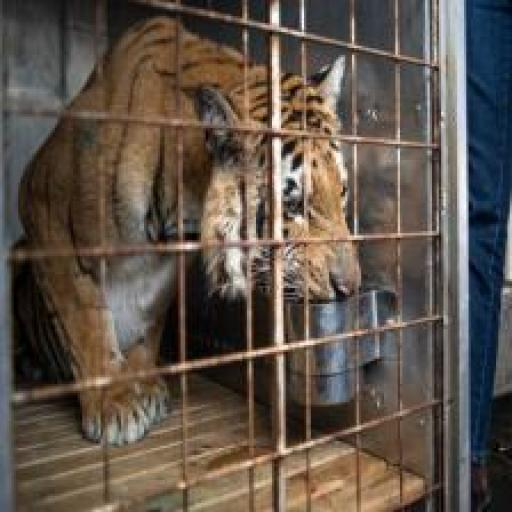Tiger: (36, 11, 396, 424)
